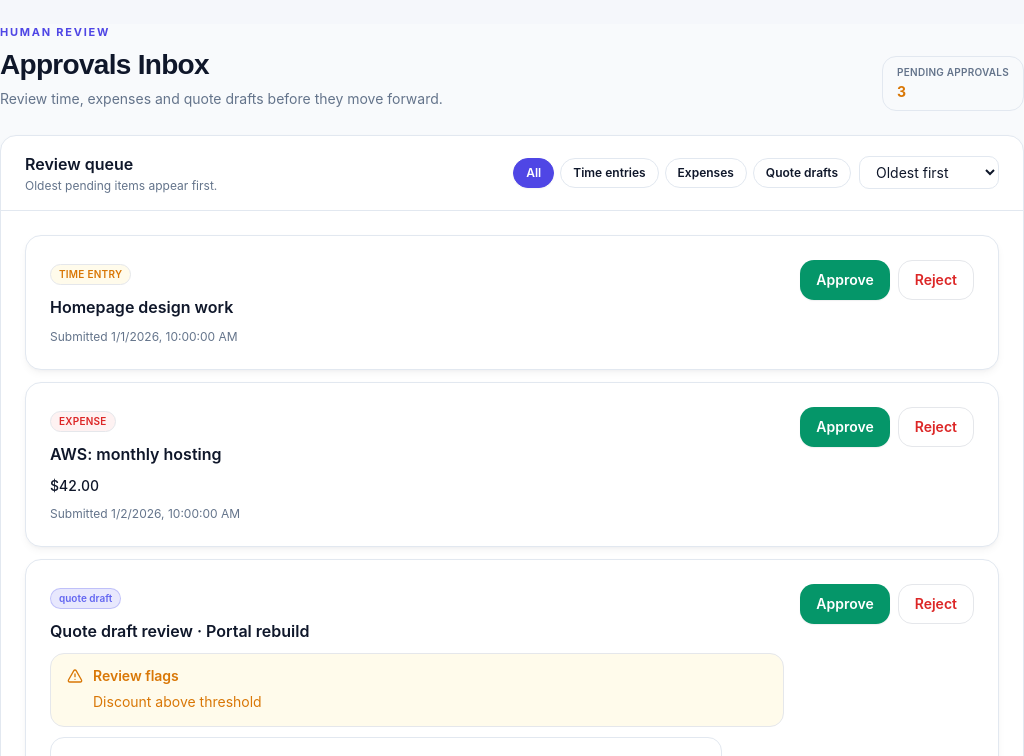
Test: ApprovalsPage › filters the queue by entity type using the API entity_type values
The width and height of the screenshot is (1024, 756).
Expected: the text "Homepage design work" is shown, x1=50 y1=296 x2=233 y2=316
Click the button "Quote drafts" at (802, 172), box x1=753 y1=158 x2=851 y2=188
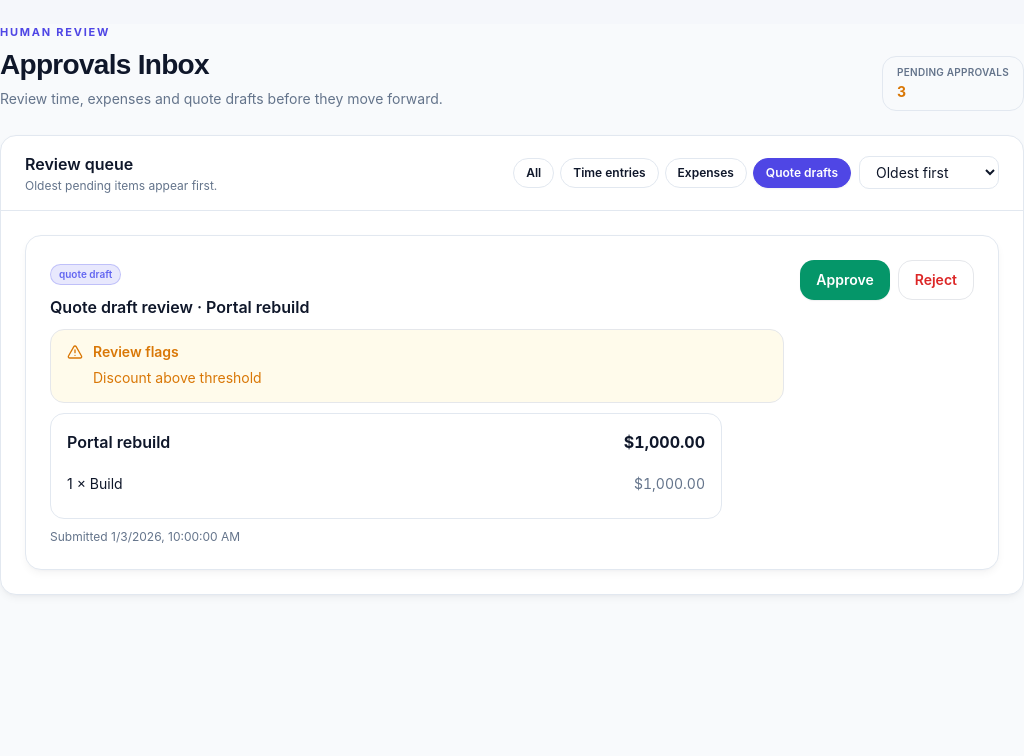
Expected: the text "Quote draft review · Portal rebuild" is shown, x1=50 y1=296 x2=309 y2=316
Expected: the text "Homepage design work" is gone
Expected: the text "AWS: monthly hosting" is gone
Click the button "Time entries" at (609, 172), box x1=560 y1=158 x2=658 y2=188
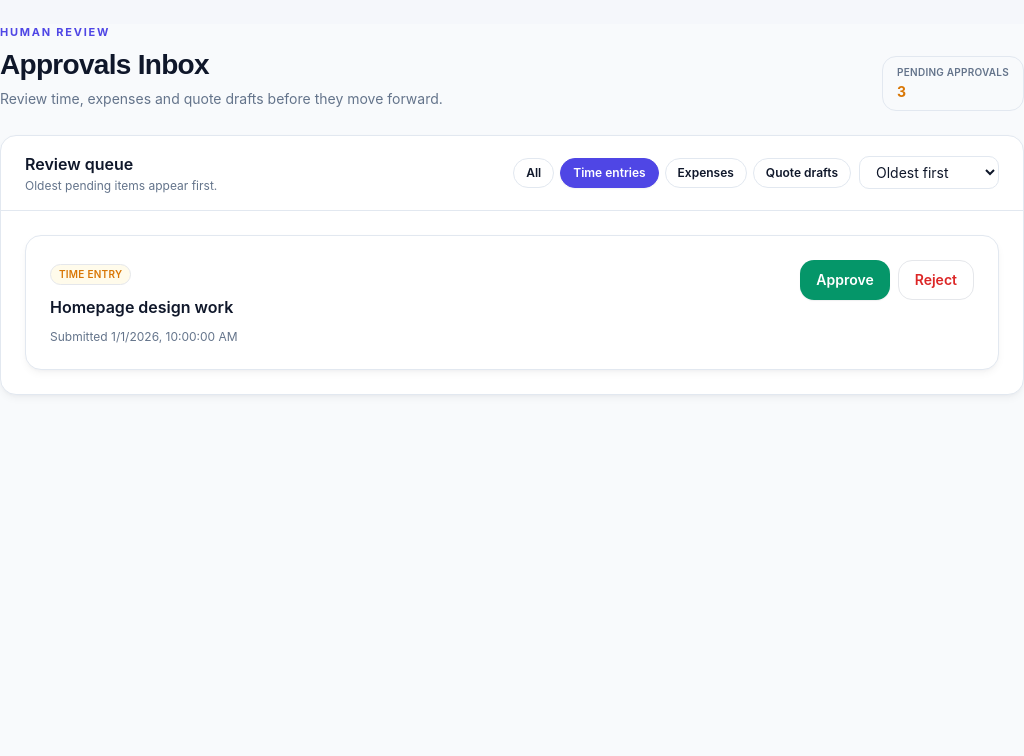
Expected: the text "Homepage design work" is shown, x1=50 y1=296 x2=233 y2=316
Expected: the text "Quote draft review · Portal rebuild" is gone
